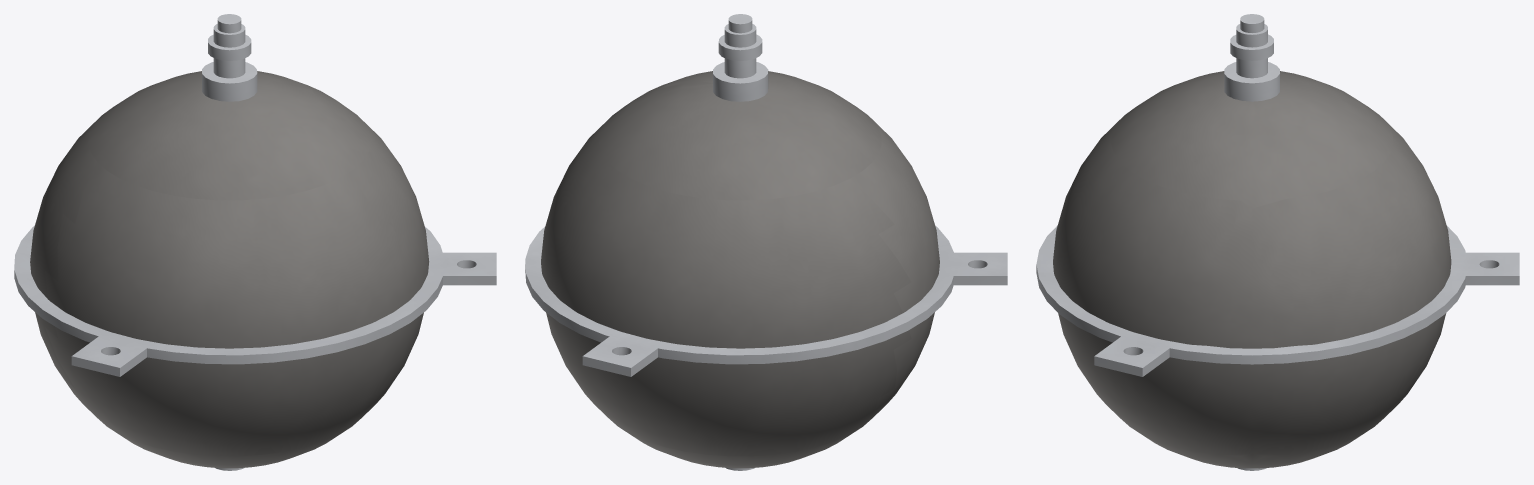
The model's file is tank05_monoprop_s.glb.
The picture shows the model from 3 angles, left to right: view 1: azimuth 30°, elevation 25°; view 2: azimuth 150°, elevation 25°; view 3: azimuth 270°, elevation 25°; orthographic projection.
Visible parts, largest first — view 1: sphere, girth_flange, mount_lugs, ports; view 2: sphere, girth_flange, mount_lugs, ports; view 3: sphere, girth_flange, mount_lugs, ports.
Part boxes in pixels (x1,y1,x2,y2): sphere: (30, 71, 429, 468); girth_flange: (14, 225, 444, 364); mount_lugs: (71, 252, 496, 376); ports: (202, 14, 257, 470); sphere: (541, 71, 939, 468); girth_flange: (525, 226, 953, 364); mount_lugs: (582, 252, 1007, 376); ports: (713, 14, 768, 470); sphere: (1053, 71, 1451, 468); girth_flange: (1036, 225, 1466, 364); mount_lugs: (1094, 252, 1519, 376); ports: (1224, 14, 1279, 470).
Bounding box in the file's own units: 1.19 × 1.19 × 1.17.
Materials: 2 (2 with a texture image).
